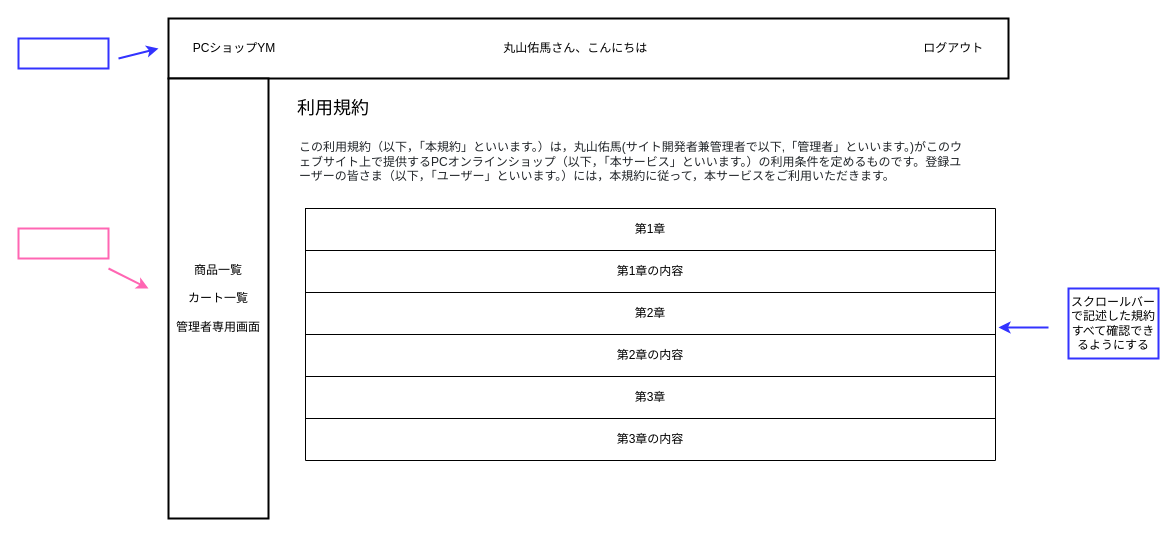
Some shapes in this 1176 by 536 pixel diagram are drawn without their labels. The shapes that lost their labels are listed below. From the top down, each one's box as (x1, y1, x2, y2) in pixels, then its label:
(17, 37, 109, 69): ヘッダー
(17, 227, 109, 259): サイドバー
